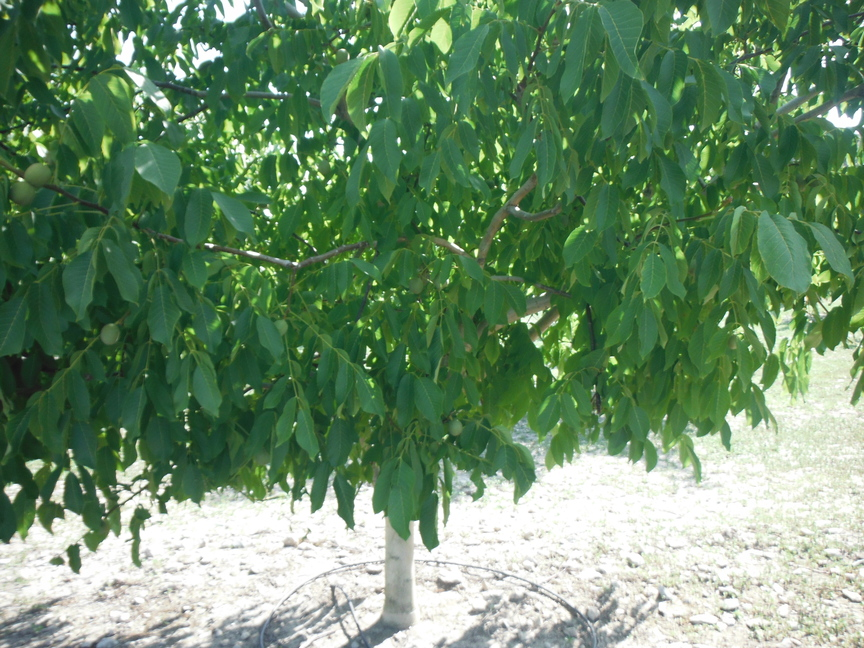walnut: (23, 156, 53, 188), (6, 178, 39, 206), (98, 319, 123, 348), (445, 413, 465, 440), (130, 208, 152, 232), (405, 274, 428, 296), (724, 330, 745, 351), (333, 45, 353, 66), (272, 316, 291, 336), (316, 156, 333, 177)
